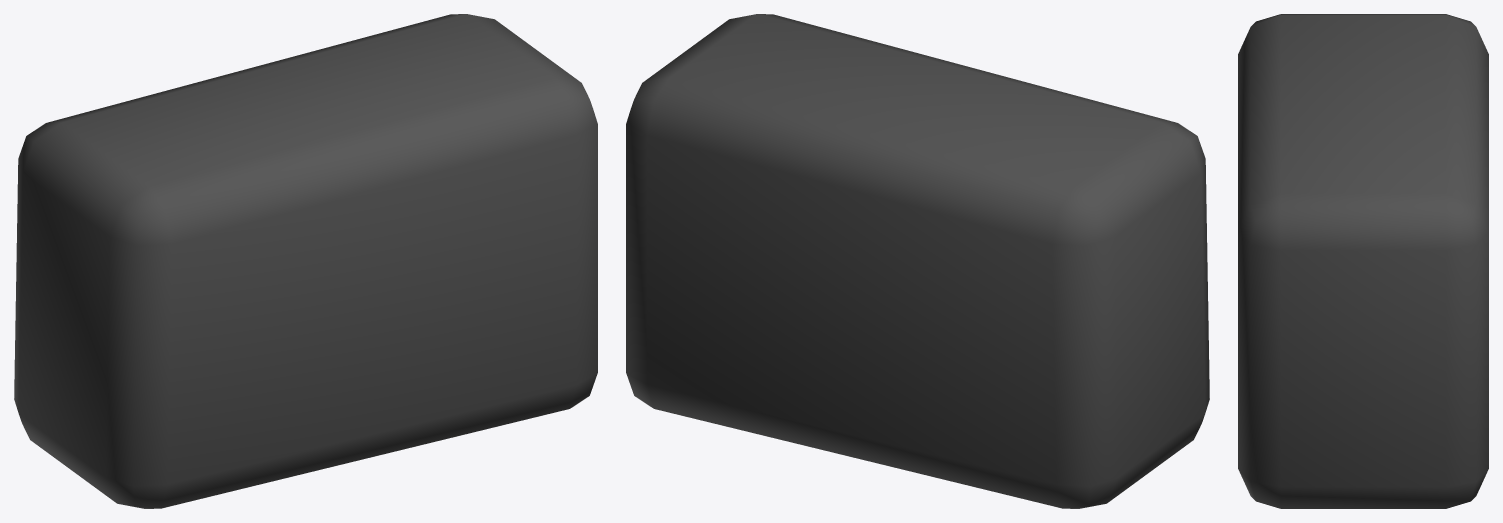
Rendered from wallBlock3.fbx.
3 views of the same model, side by side, from view 1: azimuth 30°, elevation 25°; view 2: azimuth 150°, elevation 25°; view 3: azimuth 270°, elevation 25° (orthographic). The views are drawn at different scales.
Parts seen in each view (by area): view 1: wall.013; view 2: wall.013; view 3: wall.013.
Boxes of the visible parts, box(x1,y1,x2,y2) form: wall.013: box(14, 14, 597, 508); wall.013: box(626, 14, 1209, 508); wall.013: box(1238, 14, 1488, 508).
Bounding box in the file's own units: 97.61 × 63.41 × 45.9.
